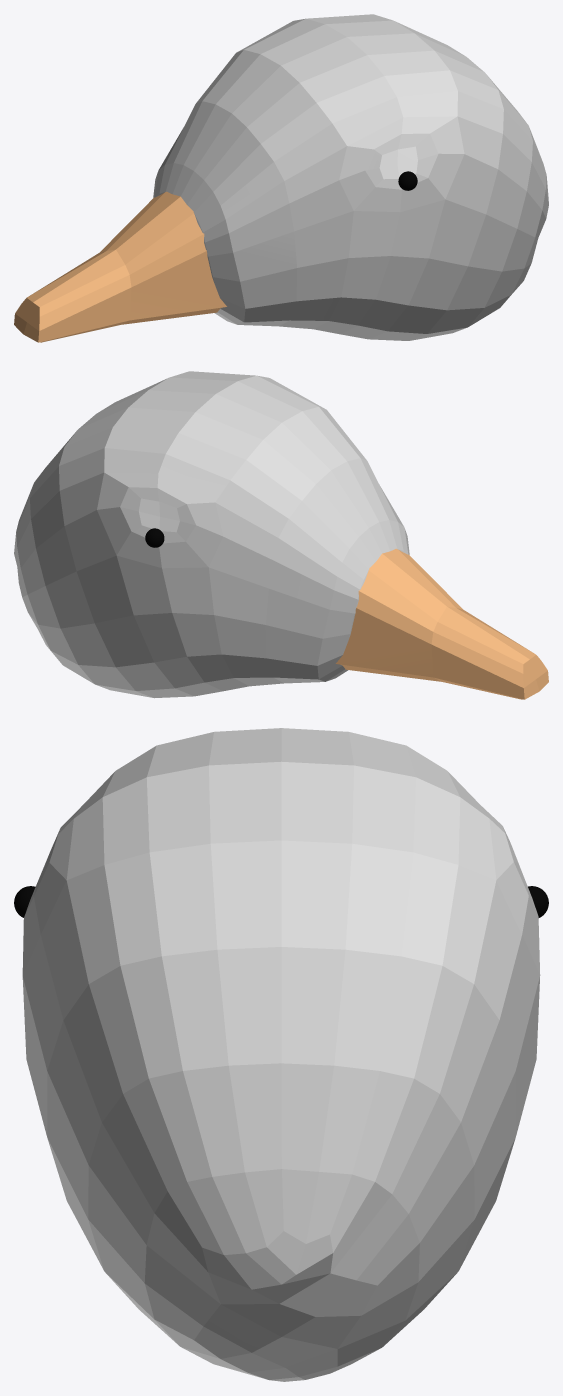
File: head.glb
3 views of the same model, one above another, from view 1: azimuth 30°, elevation 25°; view 2: azimuth 150°, elevation 25°; view 3: azimuth 270°, elevation 25° (orthographic). The views are drawn at different scales.
Visible parts, largest first — view 1: head, mouthUp, mouthDown; view 2: head, mouthUp, mouthDown; view 3: head.
Boxes of the visible parts, bbox=[...] form: head: bbox=[153, 14, 548, 340]; mouthUp: bbox=[14, 191, 226, 342]; mouthDown: bbox=[40, 307, 221, 342]; head: bbox=[14, 371, 409, 698]; mouthUp: bbox=[335, 548, 548, 699]; mouthDown: bbox=[341, 664, 522, 699]; head: bbox=[22, 728, 540, 1381].
Bounding box in the file's own units: 0.1844 × 0.1039 × 0.0962.
